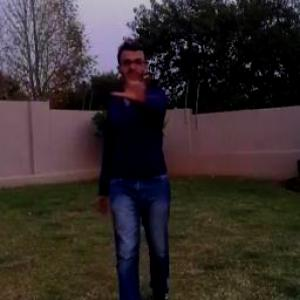follow_hand: (109, 58, 152, 106)
